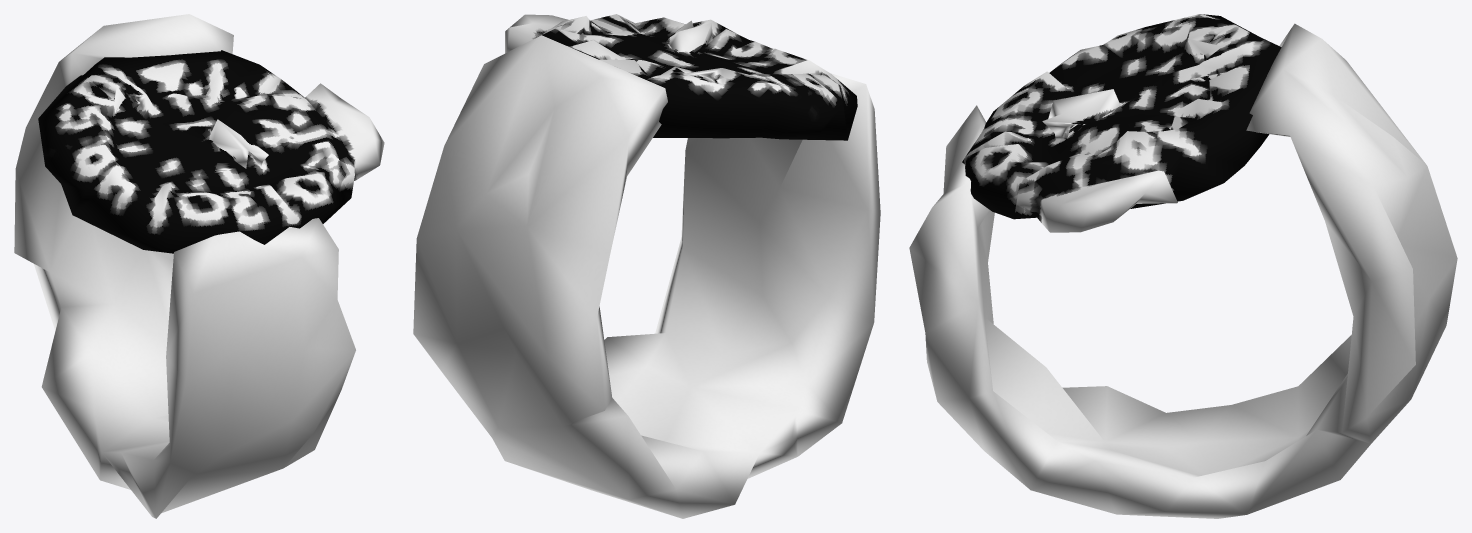
The model's file is sub black.glb.
3 views of the same model, side by side, from view 1: azimuth 30°, elevation 25°; view 2: azimuth 150°, elevation 25°; view 3: azimuth 270°, elevation 25° (orthographic). The views are drawn at different scales.
Parts seen in each view (by area): view 1: watch_sub_black.001; view 2: watch_sub_black.001; view 3: watch_sub_black.001.
Part boxes in pixels (left/top/right/bottom): watch_sub_black.001: left=14, top=14, right=384, bottom=518; watch_sub_black.001: left=413, top=14, right=880, bottom=518; watch_sub_black.001: left=909, top=14, right=1457, bottom=518.
Size of the model in its own units: 0.0374 by 0.0491 by 0.0512.
2 materials, 2 textured.
